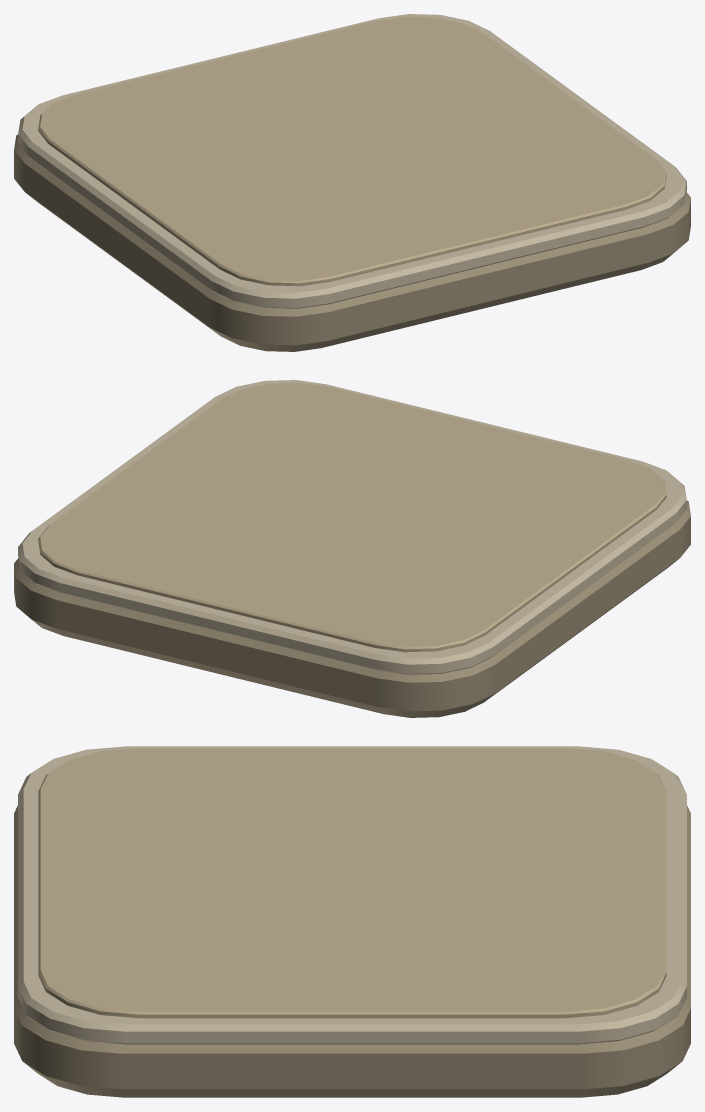
The model's file is tuile.glb.
The picture shows the model from 3 angles, top to bottom: view 1: azimuth 30°, elevation 25°; view 2: azimuth 150°, elevation 25°; view 3: azimuth 270°, elevation 25°; orthographic projection. The views are drawn at different scales.
Parts seen in each view (by area): view 1: Batch_LimestoneCrown, Batch_LimestoneFoot, Batch_GlazedBevel; view 2: Batch_LimestoneCrown, Batch_LimestoneFoot, Batch_GlazedBevel; view 3: Batch_LimestoneCrown, Batch_LimestoneFoot, Batch_GlazedBevel.
Part boxes in pixels (box(x1,y1,x2,y2)): Batch_LimestoneCrown: box(38, 17, 666, 286); Batch_LimestoneFoot: box(14, 134, 690, 351); Batch_GlazedBevel: box(18, 14, 686, 308); Batch_LimestoneCrown: box(38, 383, 666, 652); Batch_LimestoneFoot: box(14, 500, 690, 717); Batch_GlazedBevel: box(18, 380, 686, 674); Batch_LimestoneCrown: box(38, 748, 666, 1018); Batch_LimestoneFoot: box(14, 805, 690, 1097); Batch_GlazedBevel: box(18, 746, 686, 1044).
Bounding box in the file's own units: 0.975 × 0.13 × 0.975.
